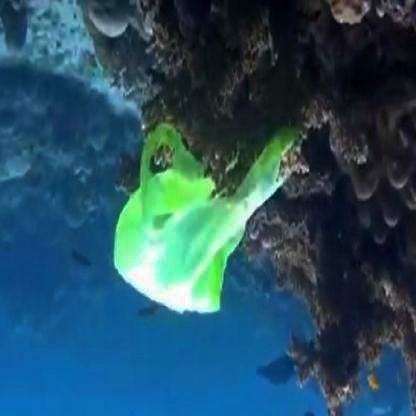plastic: (112, 134, 262, 336)
